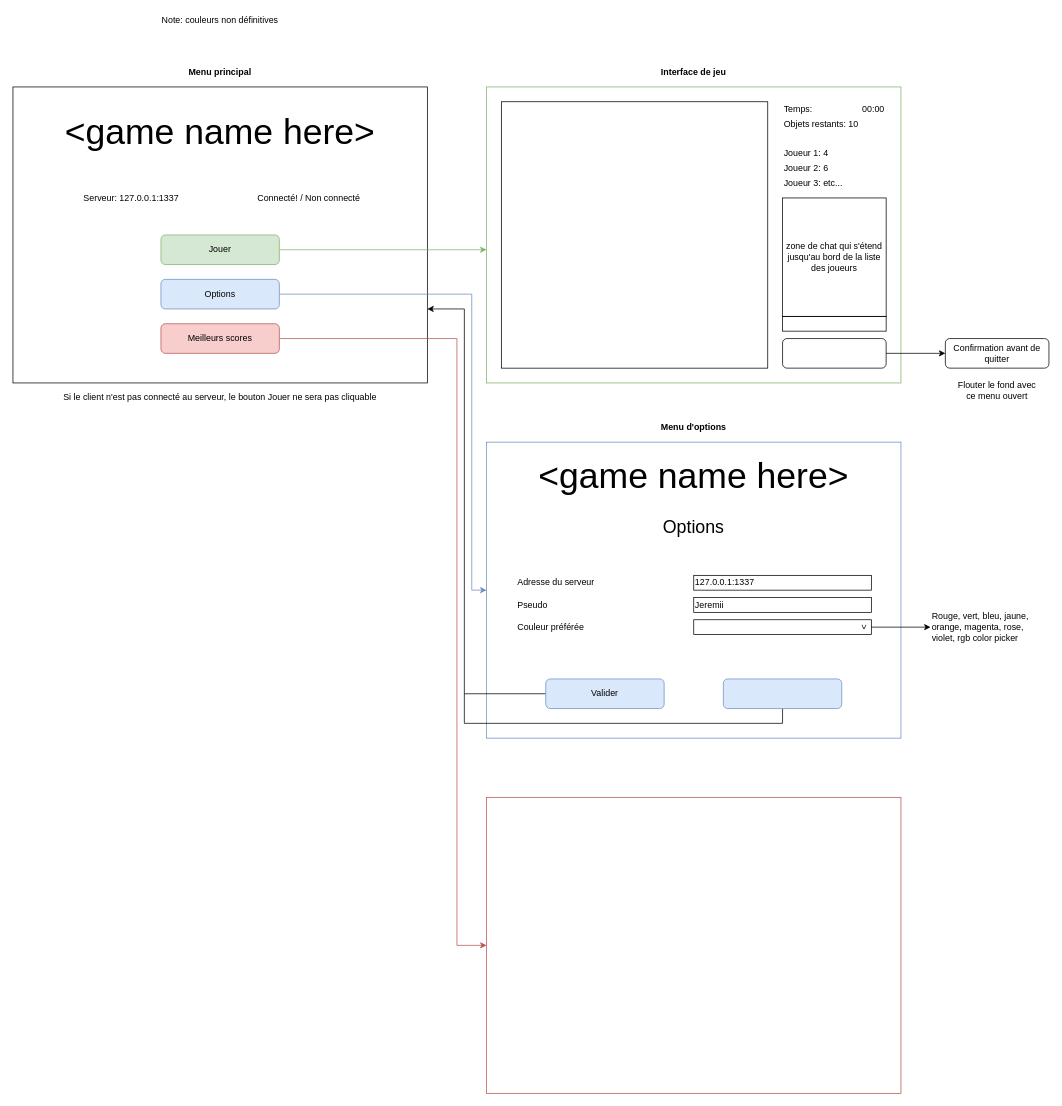
Image size: 1062x1106. Some labels were removed from this diagram. Here are the shapes that lost their labels. From the top down, the box of each, then its label:
(501, 101, 768, 368): plateau de jeu
(782, 338, 886, 368): Quitter la partie
(693, 619, 871, 635): Rouge
(723, 678, 842, 709): Annuler
